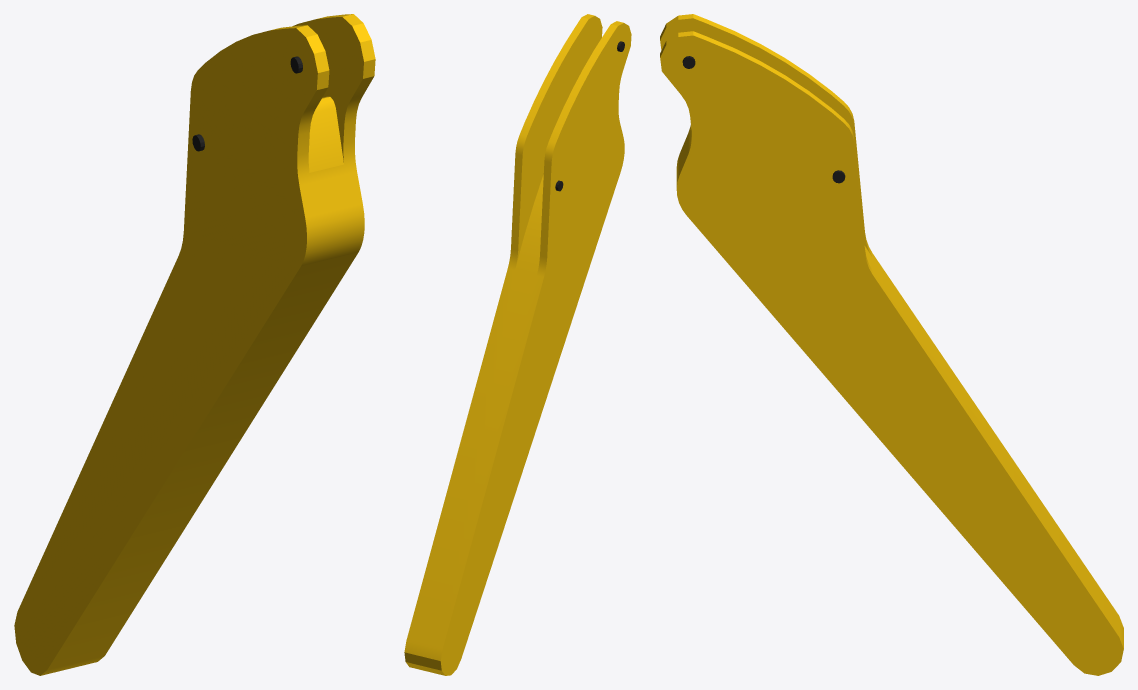
File: ExThirdBoom.obj
The picture shows the model from 3 angles, left to right: view 1: azimuth 30°, elevation 25°; view 2: azimuth 150°, elevation 25°; view 3: azimuth 270°, elevation 25°; orthographic projection. The views are drawn at different scales.
Parts seen in each view (by area): view 1: Mesh1 Group1 Model; view 2: Mesh1 Group1 Model; view 3: Mesh1 Group1 Model.
Boxes of the visible parts, x1,y1,x2,y2 form: Mesh1 Group1 Model: (14,14,375,675); Mesh1 Group1 Model: (404,14,631,675); Mesh1 Group1 Model: (660,14,1123,675).
Bounding box in the file's own units: 0.23 × 2.78 × 1.82.
